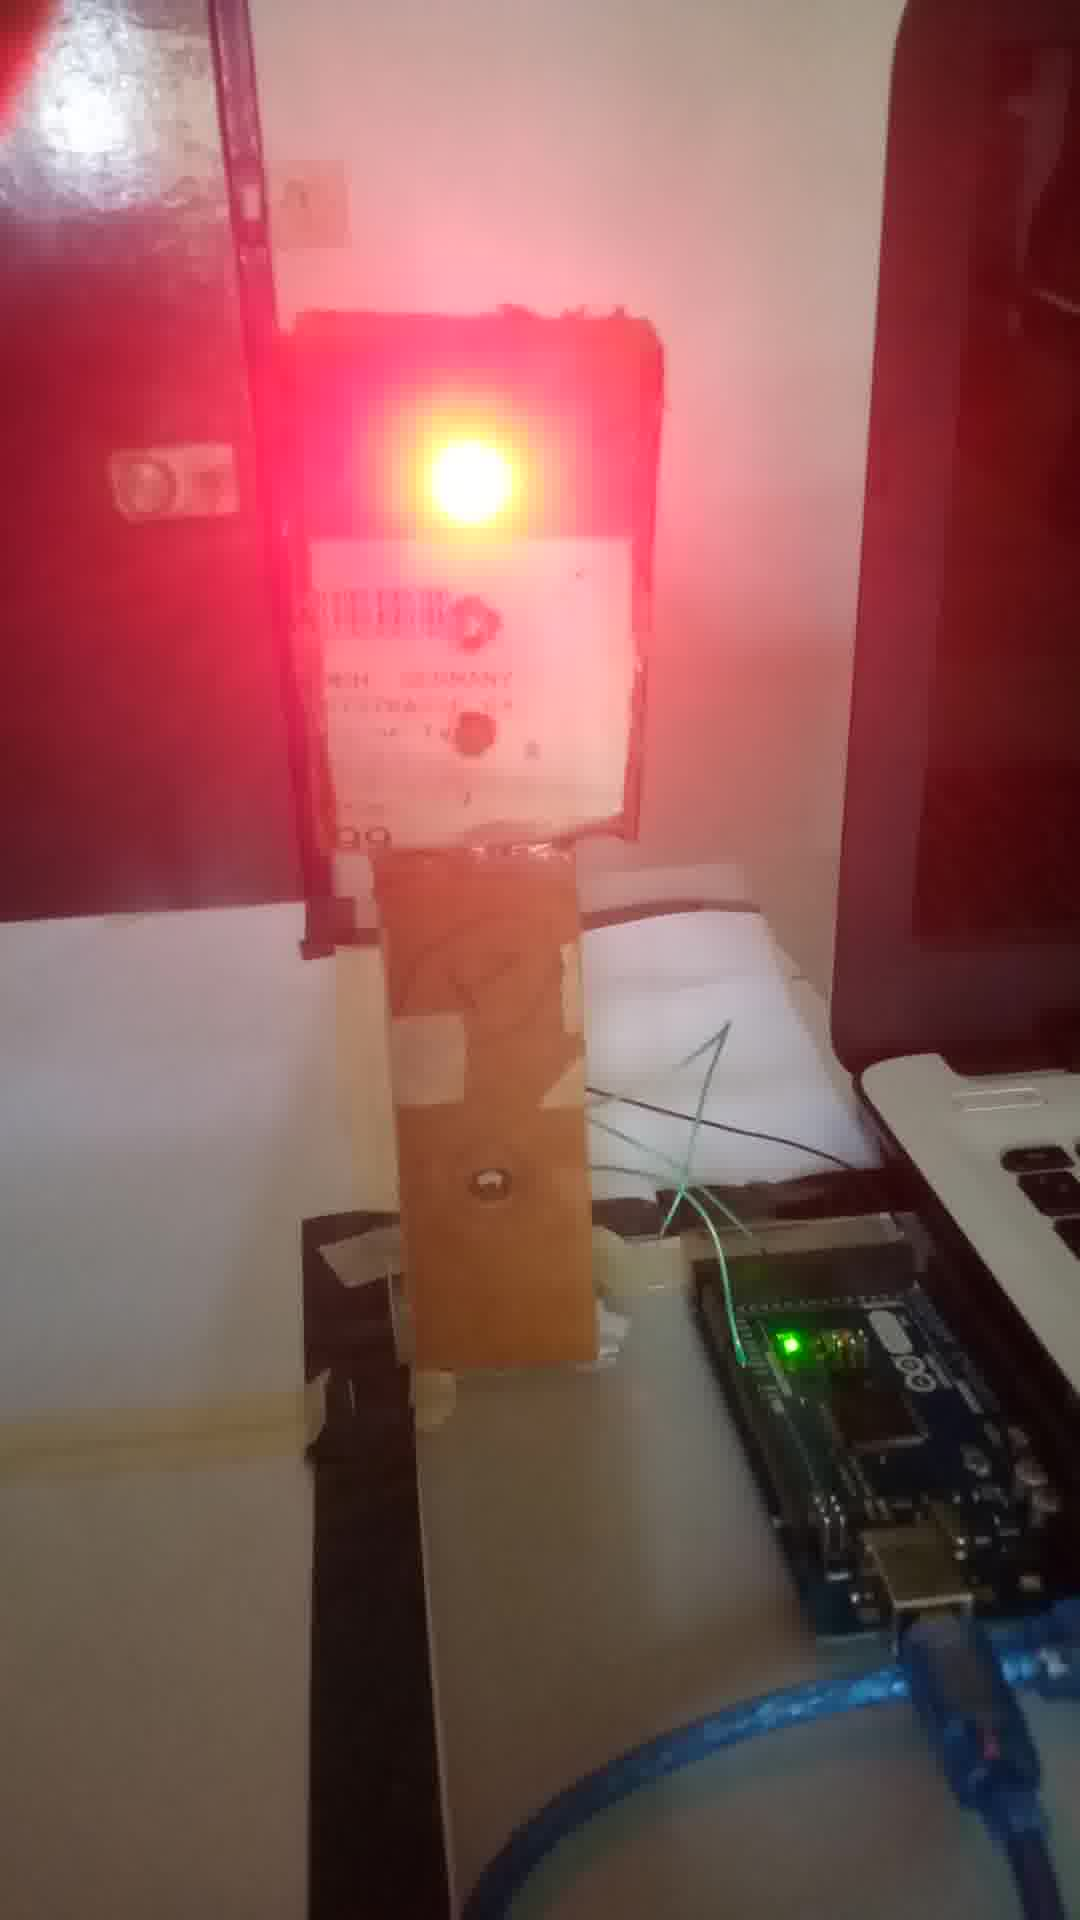red: (276, 309, 661, 837)
